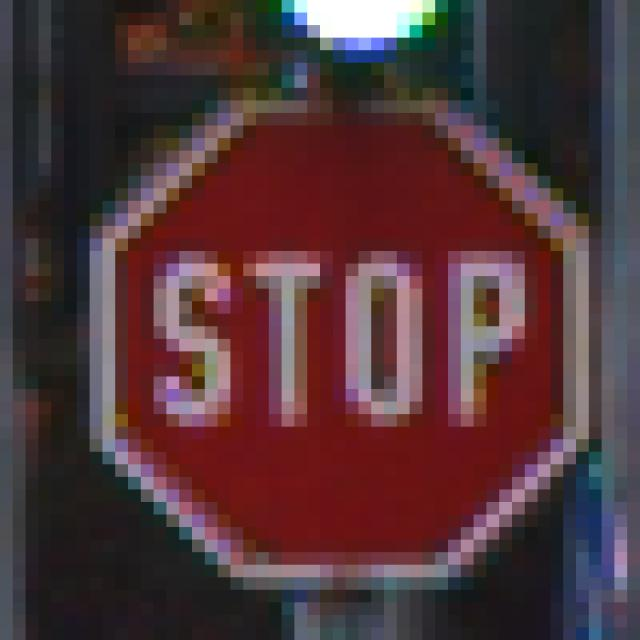STOP: (65, 76, 564, 566)
